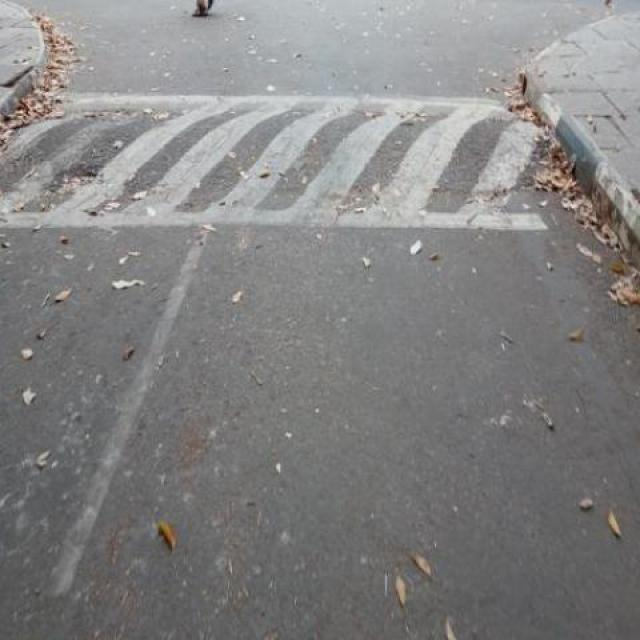Speed Bump: (1, 93, 552, 230)
